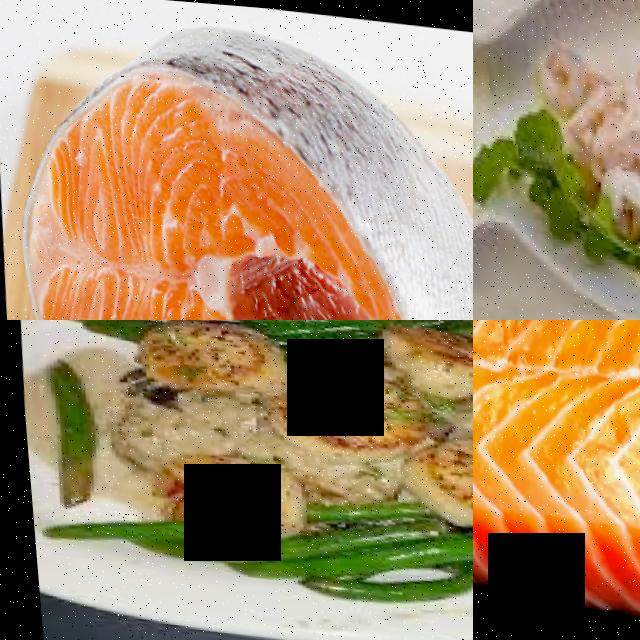salmon: (0, 43, 351, 320), (473, 320, 640, 640)
sea scallops: (140, 444, 295, 533), (268, 374, 408, 457), (129, 320, 276, 395), (390, 419, 473, 527), (371, 320, 473, 393)
shrimp: (528, 33, 583, 108)
